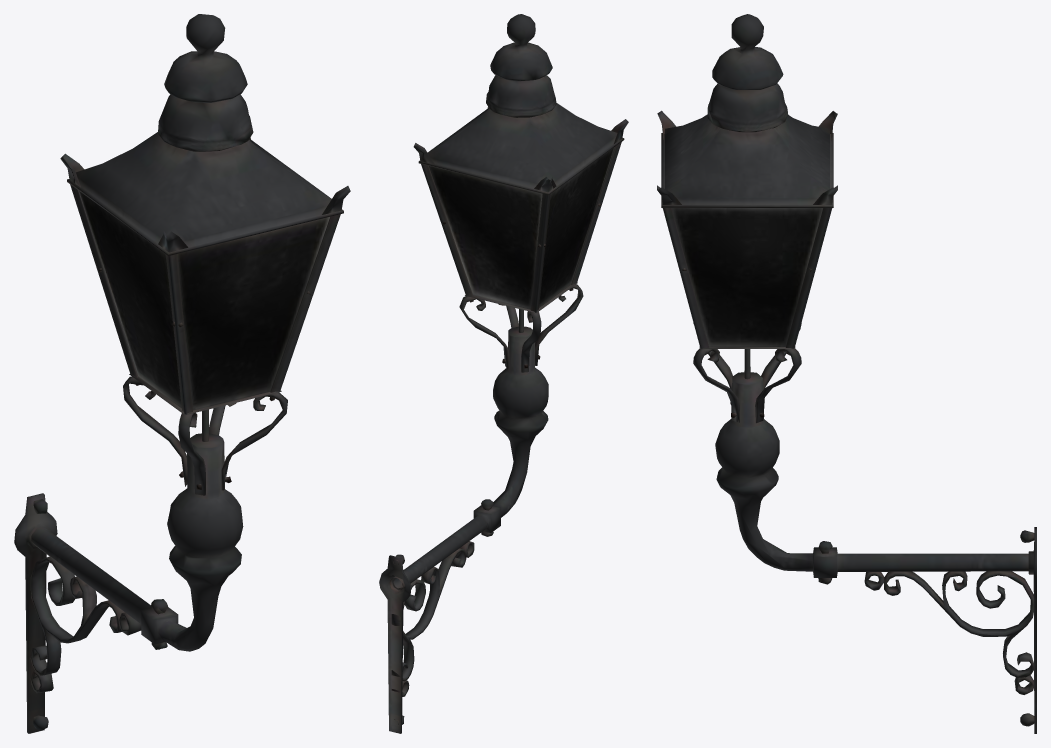
File: street_lamp_02.glb
3 views of the same model, side by side, from view 1: azimuth 30°, elevation 25°; view 2: azimuth 150°, elevation 25°; view 3: azimuth 270°, elevation 25° (orthographic). The views are drawn at different scales.
Parts seen in each view (by area): view 1: street_lamp_02; view 2: street_lamp_02; view 3: street_lamp_02.
Part boxes in pixels (x1=…): street_lamp_02: x1=14, y1=14, x2=350, y2=733; street_lamp_02: x1=379, y1=14, x2=628, y2=733; street_lamp_02: x1=657, y1=14, x2=1036, y2=733.
Size of the model in its own units: 0.3849 by 1.67 by 0.8053.
3 materials, 3 textured.
